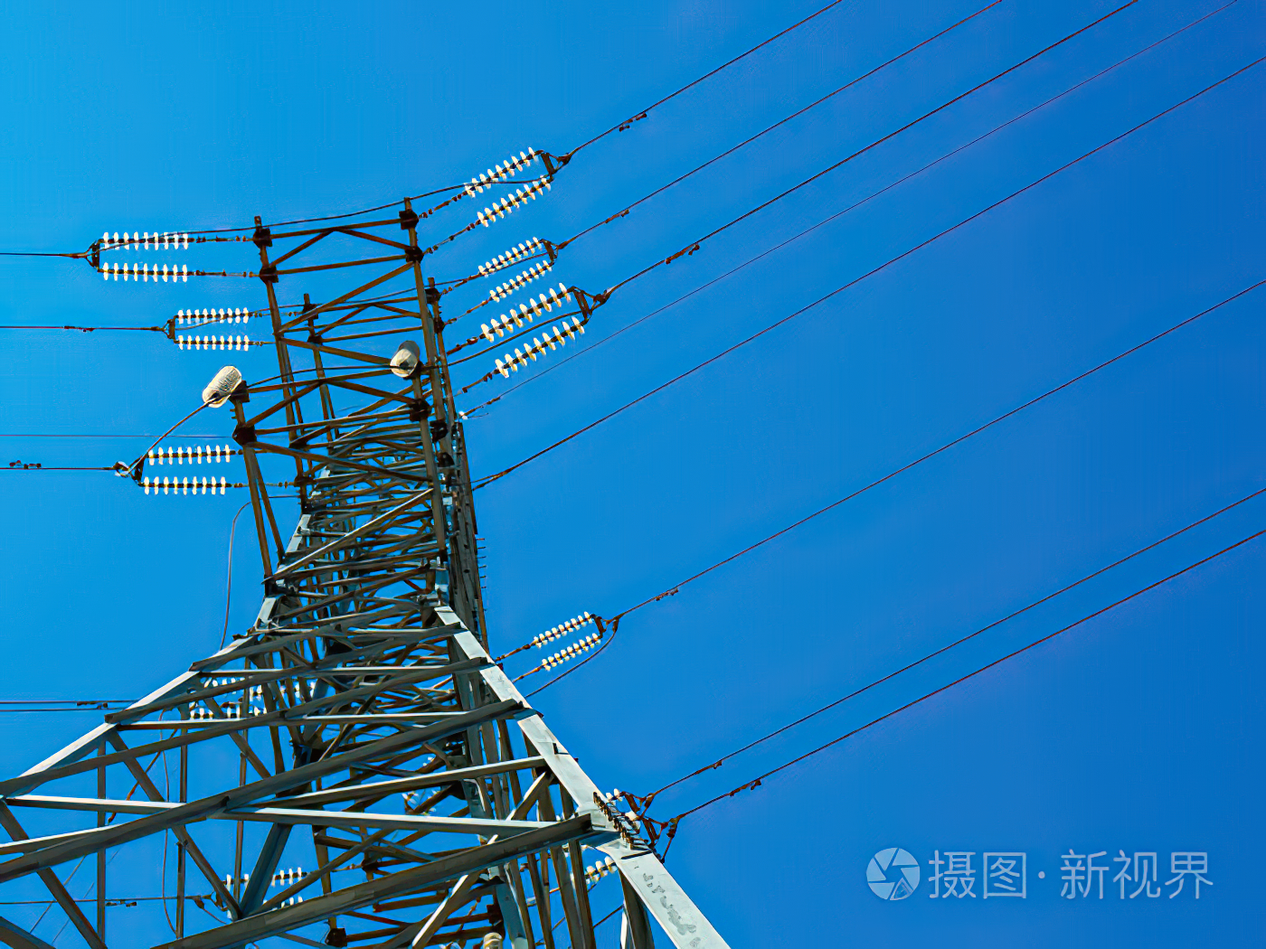insulator: (496, 314, 591, 377), (478, 283, 569, 340), (460, 145, 537, 199), (480, 174, 550, 229), (526, 607, 593, 652), (100, 256, 196, 287), (489, 259, 553, 304), (480, 236, 543, 277), (134, 443, 237, 466), (98, 230, 195, 254), (537, 635, 603, 670), (227, 863, 311, 890), (139, 473, 232, 497), (564, 854, 619, 891), (170, 304, 259, 323), (203, 367, 241, 405), (174, 332, 250, 350), (188, 708, 274, 723), (388, 341, 421, 375)
